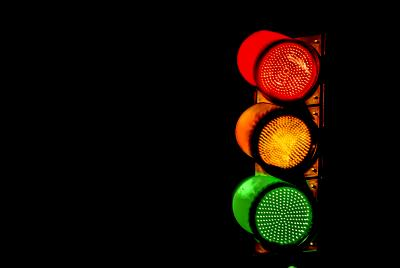International Road Signal Light: (231, 30, 323, 264)
